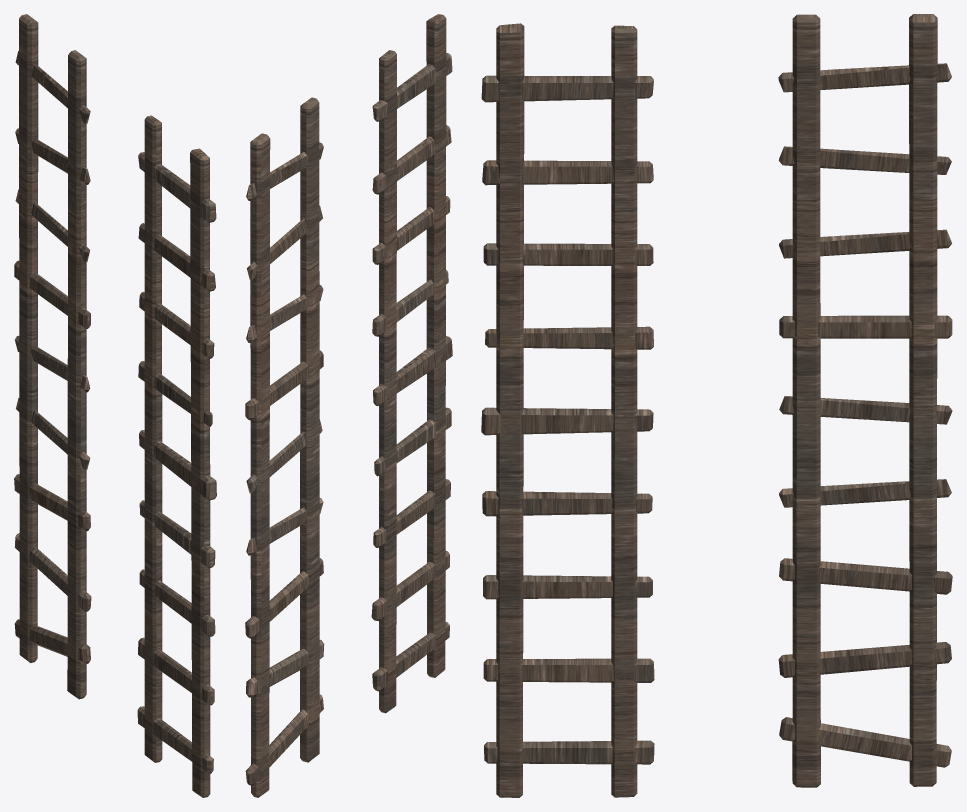
Rendered from Ladders.fbx.
The picture shows the model from 3 angles, left to right: view 1: azimuth 30°, elevation 25°; view 2: azimuth 150°, elevation 25°; view 3: azimuth 270°, elevation 25°; orthographic projection. The views are drawn at different scales.
Parts seen in each view (by area): view 1: Ladder_A, Ladder_B; view 2: Ladder_A, Ladder_B; view 3: Ladder_A, Ladder_B.
Boxes of the visible parts, x1,y1,x2,y2 form: Ladder_A: (137, 115, 216, 797); Ladder_B: (14, 14, 91, 699); Ladder_A: (371, 14, 452, 713); Ladder_B: (245, 97, 324, 797); Ladder_A: (481, 23, 654, 797); Ladder_B: (778, 14, 952, 787).
Size of the model in its own units: 3.85 by 203 by 111.
